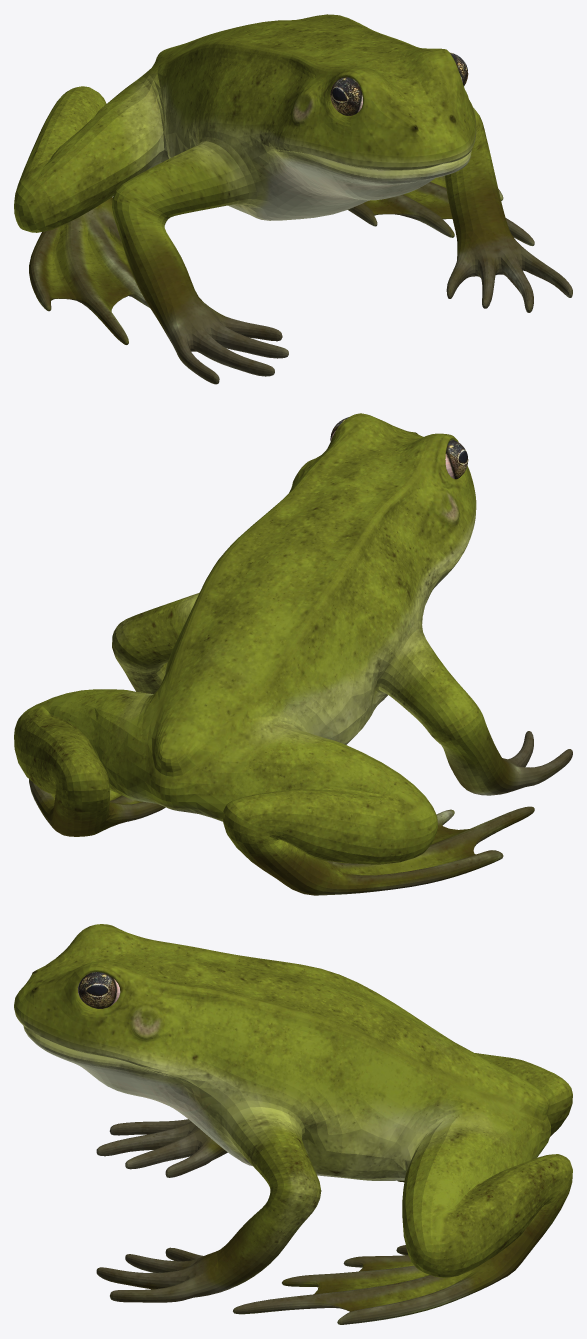
The picture shows the model from 3 angles, top to bottom: view 1: azimuth 30°, elevation 25°; view 2: azimuth 150°, elevation 25°; view 3: azimuth 270°, elevation 25°; orthographic projection. The views are drawn at different scales.
Parts seen in each view (by area): view 1: 67f47783_1025_460f_926c_90abb8921135, 49b90e89_52e7_4231_82f7_c0c5b24fe88b; view 2: 67f47783_1025_460f_926c_90abb8921135, 49b90e89_52e7_4231_82f7_c0c5b24fe88b; view 3: 67f47783_1025_460f_926c_90abb8921135, d5d7b6e1_775e_448e_a281_9143d57c1b3d.
Boxes of the visible parts, bbox=[...] form: 67f47783_1025_460f_926c_90abb8921135: bbox=[14, 14, 572, 384]; 49b90e89_52e7_4231_82f7_c0c5b24fe88b: bbox=[330, 77, 362, 115]; 67f47783_1025_460f_926c_90abb8921135: bbox=[14, 413, 572, 895]; 49b90e89_52e7_4231_82f7_c0c5b24fe88b: bbox=[445, 439, 468, 479]; 67f47783_1025_460f_926c_90abb8921135: bbox=[14, 924, 572, 1324]; d5d7b6e1_775e_448e_a281_9143d57c1b3d: bbox=[77, 972, 120, 1008].
Size of the model in its own units: 166 by 99.51 by 184.
Materials: 2 (2 with a texture image).
